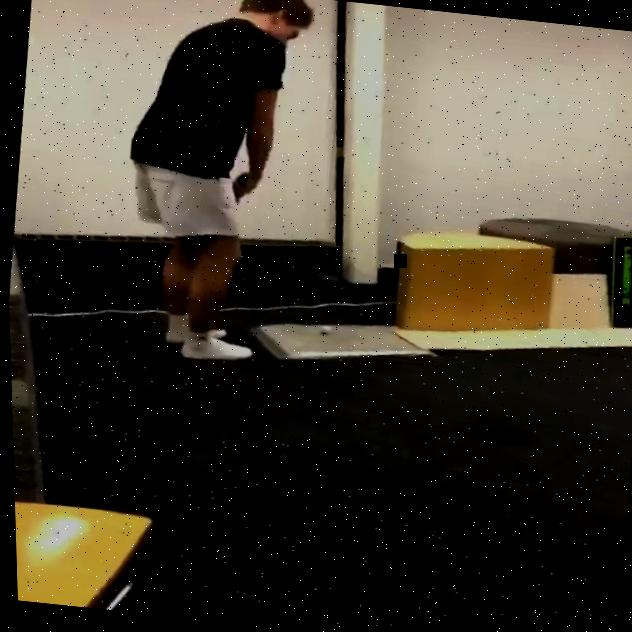GolfBall: (315, 323, 330, 336)
